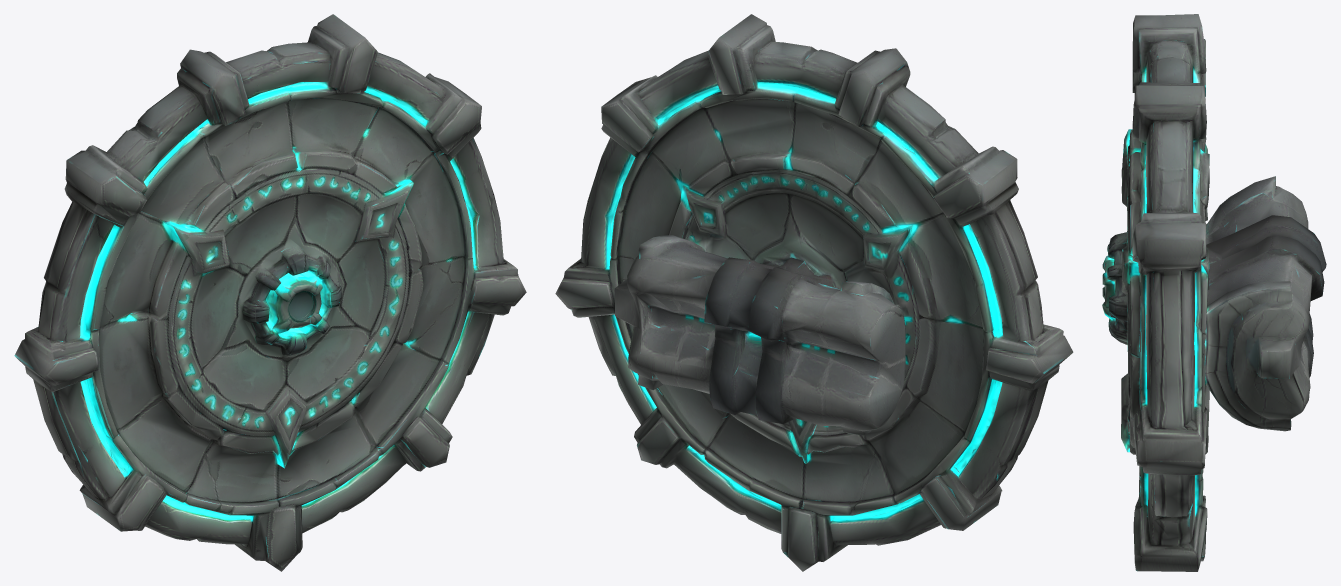
File: Meshy_AI_A_high_definition_3D__0518092805_texture.fbx
The picture shows the model from 3 angles, left to right: view 1: azimuth 30°, elevation 25°; view 2: azimuth 150°, elevation 25°; view 3: azimuth 270°, elevation 25°; orthographic projection.
Visible parts, largest first — view 1: Mesh_0; view 2: Mesh_0; view 3: Mesh_0.
Boxes of the visible parts, bbox=[...] form: Mesh_0: bbox=[14, 14, 526, 571]; Mesh_0: bbox=[555, 14, 1073, 571]; Mesh_0: bbox=[1102, 14, 1326, 571].
Size of the model in its own units: 188 by 191 by 74.85.
Materials: 1 (1 with a texture image).
